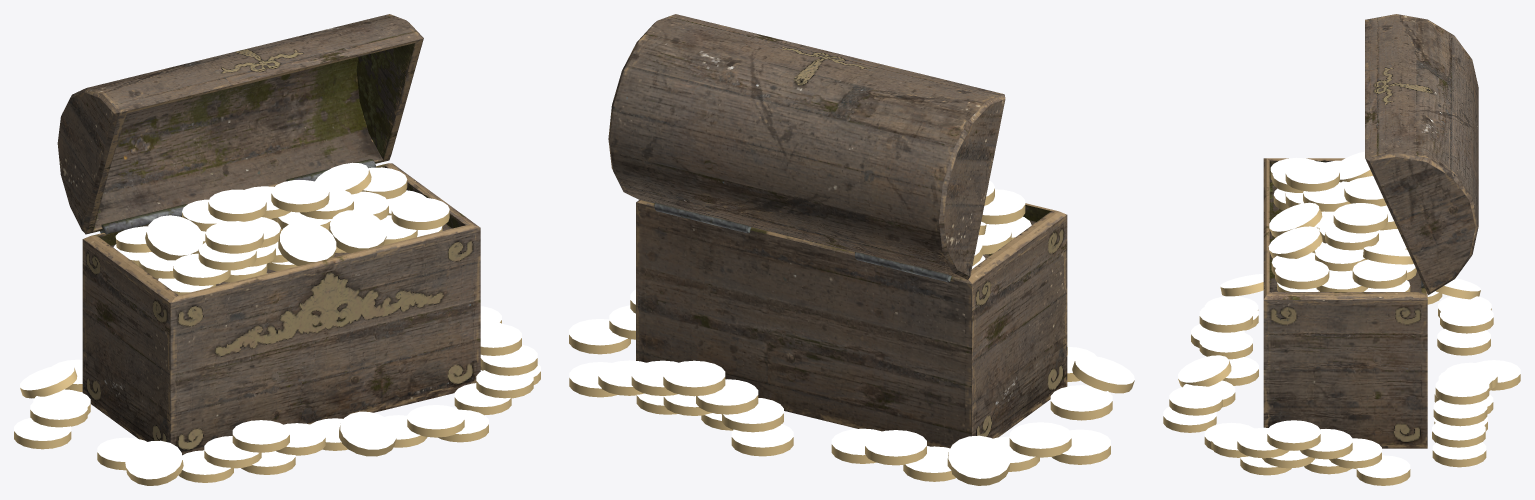
File: SM_Prop_Wood_Crates_A2_Gold.fbx
The picture shows the model from 3 angles, left to right: view 1: azimuth 30°, elevation 25°; view 2: azimuth 150°, elevation 25°; view 3: azimuth 270°, elevation 25°; orthographic projection. The views are drawn at different scales.
Visible parts, largest first — view 1: SM_Prop_Wood_Crates_A2_Gold_LOD0; view 2: SM_Prop_Wood_Crates_A2_Gold_LOD0; view 3: SM_Prop_Wood_Crates_A2_Gold_LOD0.
Boxes of the visible parts, x1,y1,x2,y2 form: SM_Prop_Wood_Crates_A2_Gold_LOD0: (14, 14, 540, 485); SM_Prop_Wood_Crates_A2_Gold_LOD0: (569, 14, 1134, 485); SM_Prop_Wood_Crates_A2_Gold_LOD0: (1163, 14, 1520, 485).
Size of the model in its own units: 188 by 128 by 116.
1 material, 1 textured.
